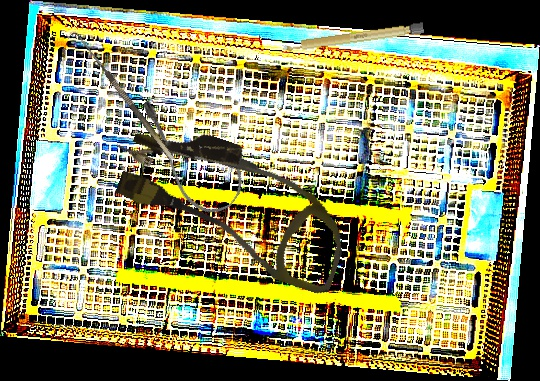Cannula: (105, 112, 365, 297), (112, 95, 256, 224)
Hook Surgical: (66, 28, 176, 167)
Scalpel Handle: (281, 22, 425, 53)
